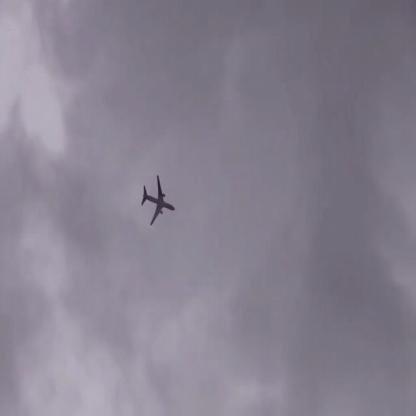plane: (141, 176, 177, 226)
